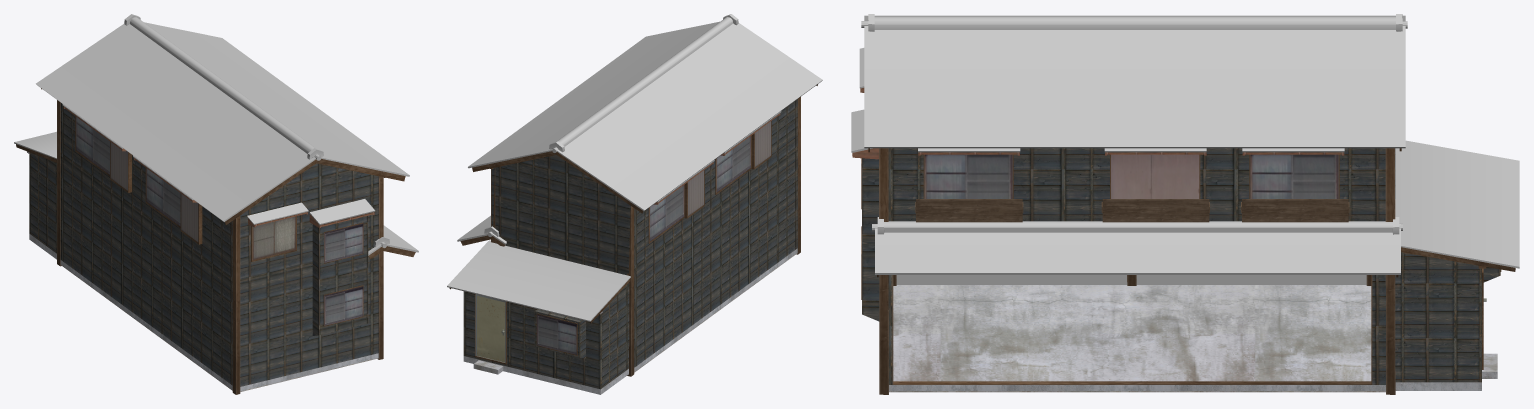
3 views of the same model, side by side, from view 1: azimuth 30°, elevation 25°; view 2: azimuth 150°, elevation 25°; view 3: azimuth 270°, elevation 25° (orthographic). The views are drawn at different scales.
Parts seen in each view (by area): view 1: ms_h01k_2b; view 2: ms_h01k_2b; view 3: ms_h01k_2b.
Boxes of the visible parts, x1=… form: ms_h01k_2b: x1=14, y1=14, x2=418, y2=394; ms_h01k_2b: x1=447, y1=14, x2=822, y2=394; ms_h01k_2b: x1=851, y1=14, x2=1519, y2=394.
Size of the model in its own units: 756 by 833 by 1524.
